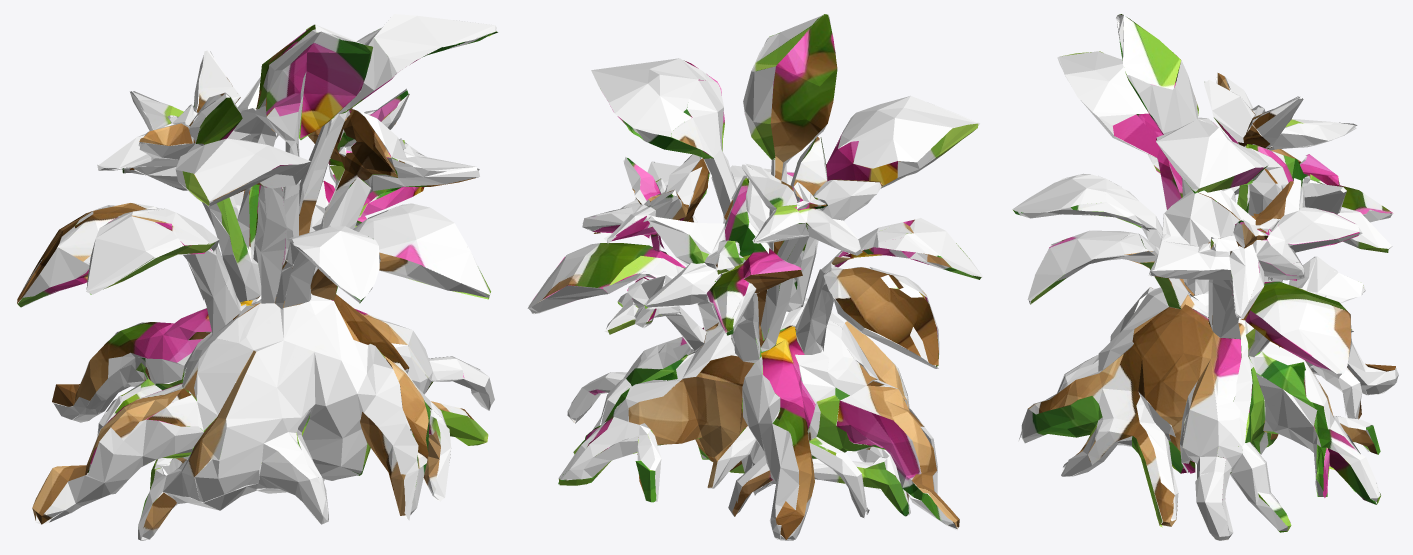
Rendered from StarRoot_mature.obj.
3 renders of one model, left to right at view 1: azimuth 30°, elevation 25°; view 2: azimuth 150°, elevation 25°; view 3: azimuth 270°, elevation 25°, orthographic. The views are drawn at different scales.
Visible parts, largest first — view 1: StarRoot_mature; view 2: StarRoot_mature; view 3: StarRoot_mature.
Boxes of the visible parts, bbox=[...] form: StarRoot_mature: bbox=[14, 14, 497, 540]; StarRoot_mature: bbox=[527, 14, 982, 540]; StarRoot_mature: bbox=[1012, 14, 1398, 540].
Bounding box in the file's own units: 1.84 × 2 × 1.54.
